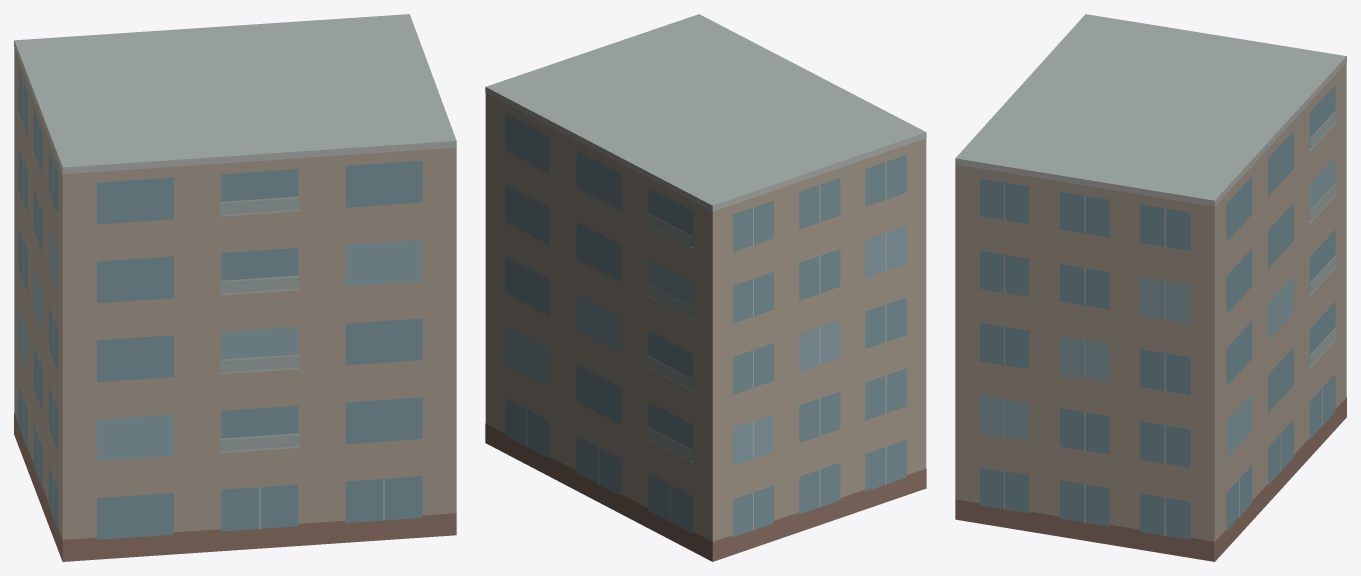
The model's file is survey-upis-32877230.glb.
3 renders of one model, left to right at view 1: azimuth 30°, elevation 25°; view 2: azimuth 150°, elevation 25°; view 3: azimuth 270°, elevation 25°, orthographic. The views are drawn at different scales.
Visible parts, largest first — view 1: survey-upis-32877230.tmp; view 2: survey-upis-32877230.tmp; view 3: survey-upis-32877230.tmp.
Part boxes in pixels (<box>): survey-upis-32877230.tmp: <box>14,14,456,561</box>; survey-upis-32877230.tmp: <box>485,14,926,561</box>; survey-upis-32877230.tmp: <box>955,14,1346,561</box>.
Size of the model in its own units: 15.86 by 14.3 by 14.06.
